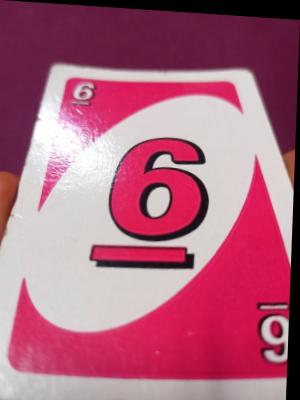num_6: (248, 287, 292, 368), (65, 77, 102, 108)
